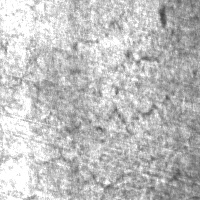crazing: (57, 79, 184, 193), (40, 35, 169, 88)
